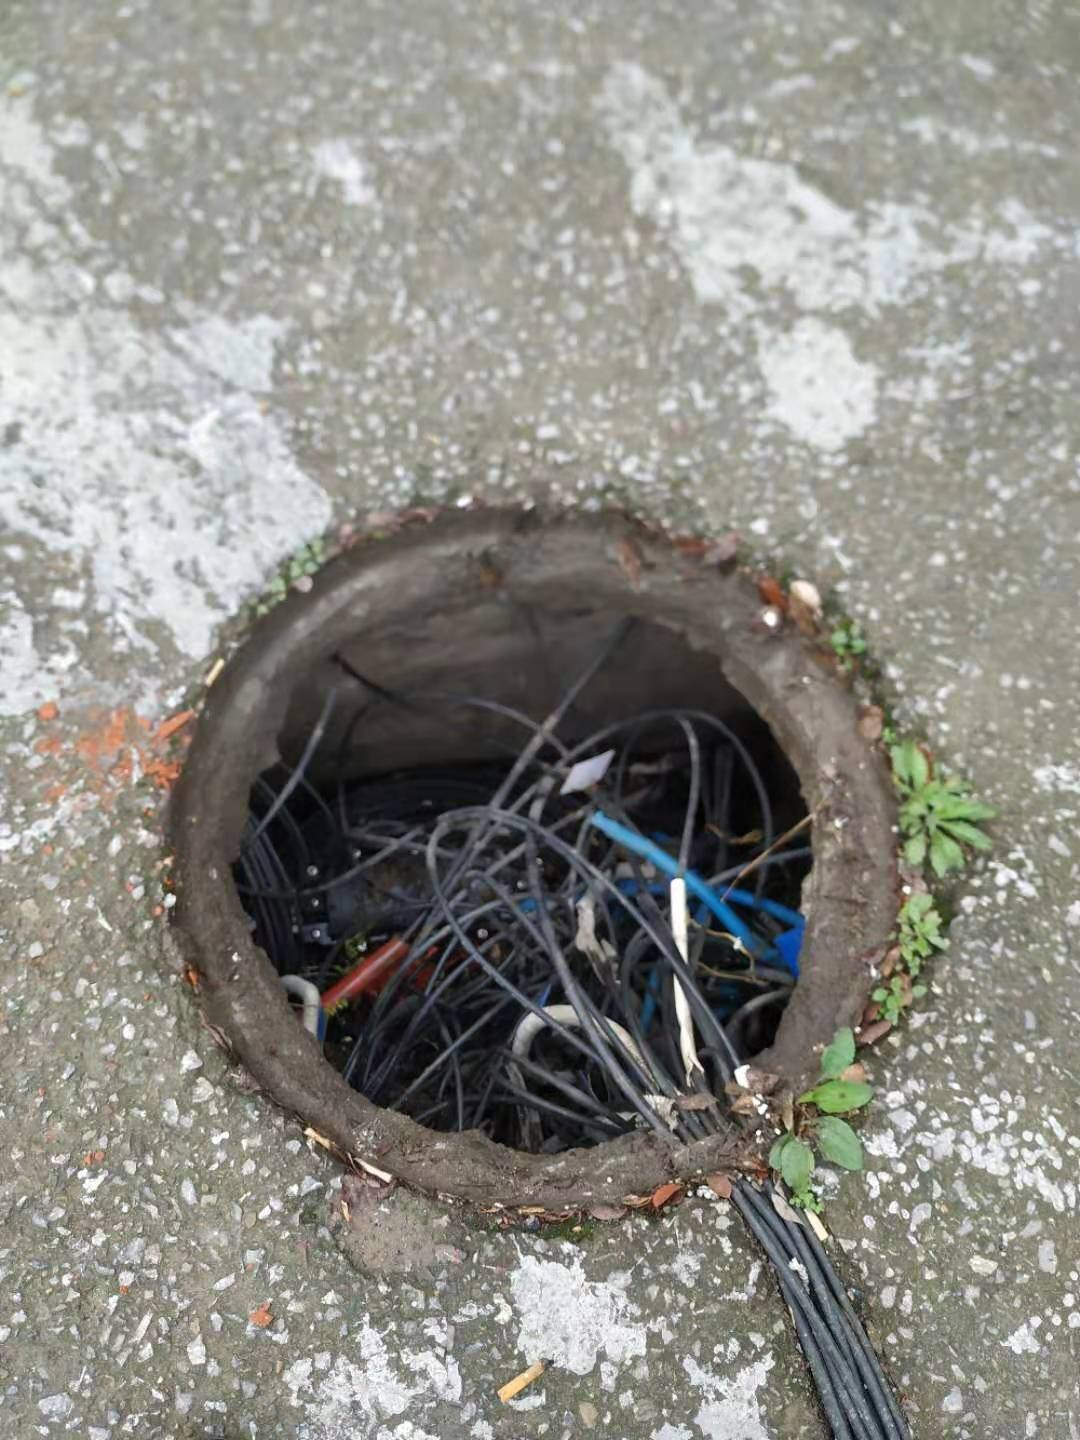well: (144, 495, 927, 1197)
